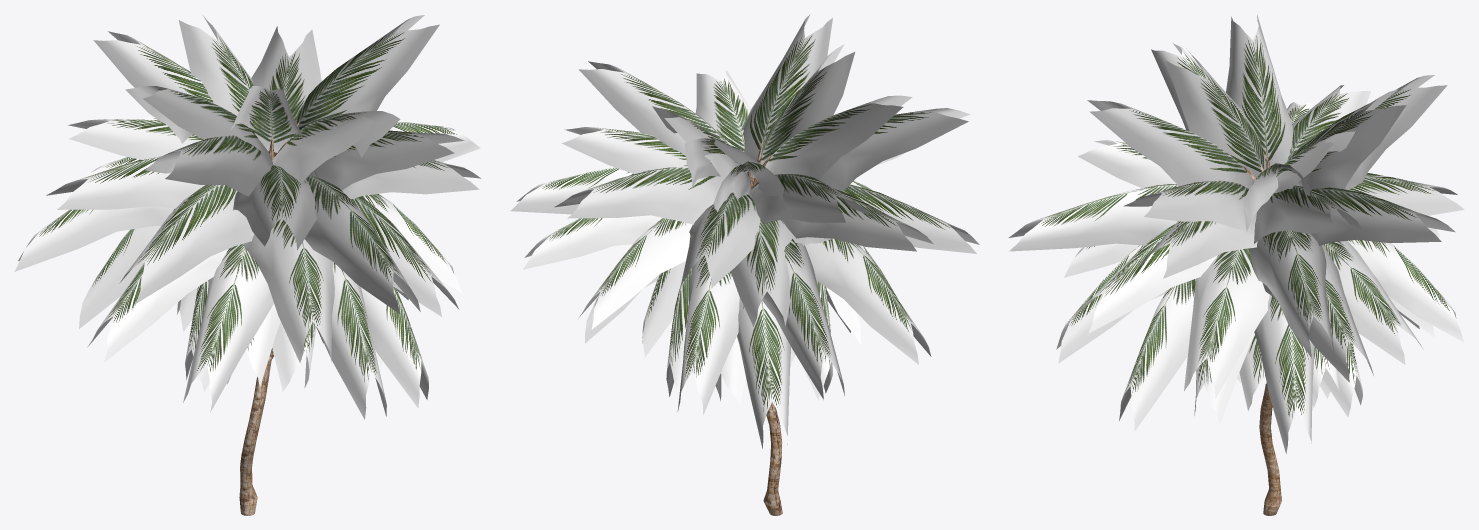
The model's file is palm_tree_01_ee2492d6.fbx.
3 renders of one model, left to right at view 1: azimuth 30°, elevation 25°; view 2: azimuth 150°, elevation 25°; view 3: azimuth 270°, elevation 25°, orthographic. The views are drawn at different scales.
Parts seen in each view (by area): view 1: palm_tree_01_ee2492d6; view 2: palm_tree_01_ee2492d6; view 3: palm_tree_01_ee2492d6.
Part boxes in pixels (x1,y1,x2,y2): palm_tree_01_ee2492d6: (14,15,480,515); palm_tree_01_ee2492d6: (510,14,979,515); palm_tree_01_ee2492d6: (1008,14,1464,515).
Size of the model in its own units: 6.94 by 7.16 by 6.62.
Materials: 2 (2 with a texture image).
